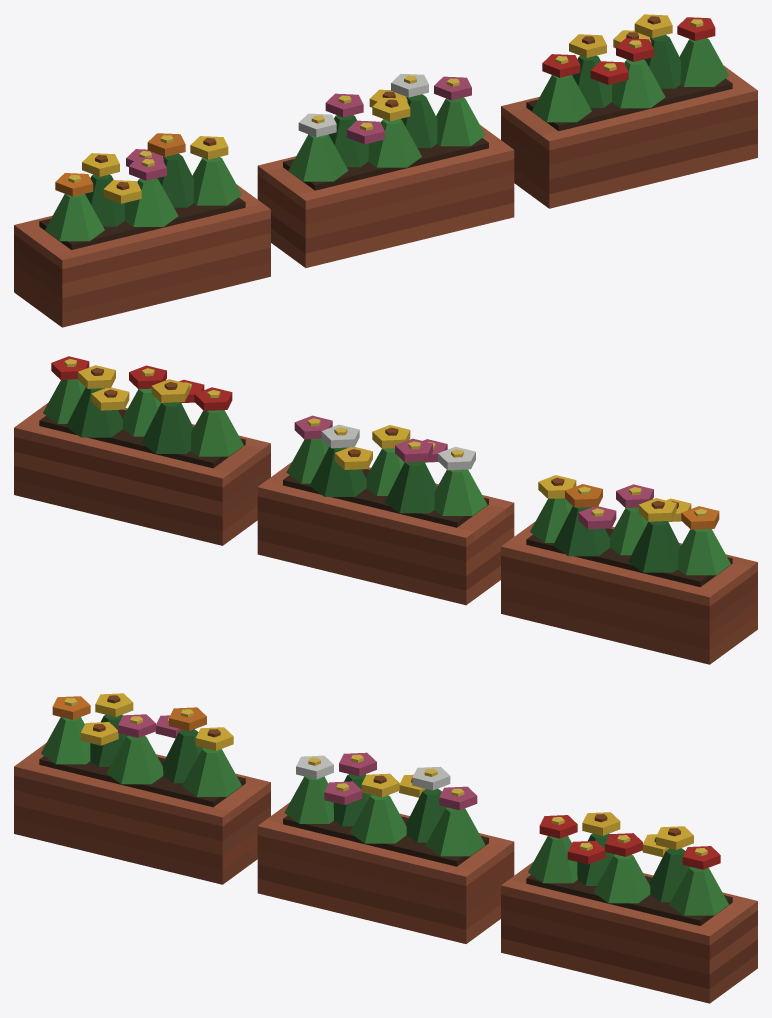
The model's file is Decor_FoodTruck_Planters.fbx.
3 renders of one model, top to bottom at view 1: azimuth 30°, elevation 25°; view 2: azimuth 150°, elevation 25°; view 3: azimuth 330°, elevation 25°, orthographic.
Parts seen in each view (by area): view 1: Planters_Body; view 2: Planters_Body; view 3: Planters_Body.
Part boxes in pixels (box(x1,y1,x2,y2)): Planters_Body: box(14, 14, 757, 327); Planters_Body: box(14, 356, 757, 664); Planters_Body: box(14, 693, 757, 1003).
Size of the model in its own units: 20 by 3.6 by 2.4.
